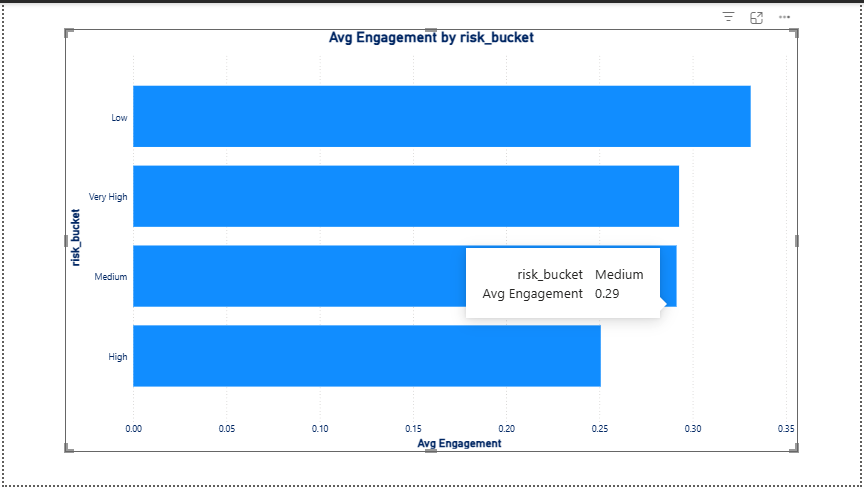

The page's visual inventory and layout, read from the dashboard file:
{"tool":"powerbi","page":{"name":"Page 3","canvas":[1280,720],"ordinal":2},"visuals":[{"type":"clusteredBarChart","fields":{"Category":["Customer_Analytics.risk_bucket"],"Y":["Customer_Analytics.Avg Engagement"]},"box":[91.1,38.8,1094.9,631.9],"z":0}]}

Visuals, with their boxes on the page's 1280x720 design canvas (x1, y1, x2, y2). These are canvas units, not pixel positions in the 864x487 screenshot, which may show the page scaled, cropped or inside an application window:
clusteredBarChart - Customer_Analytics.risk_bucket x Customer_Analytics.Avg Engagement: Rect(91, 39, 1186, 671)
